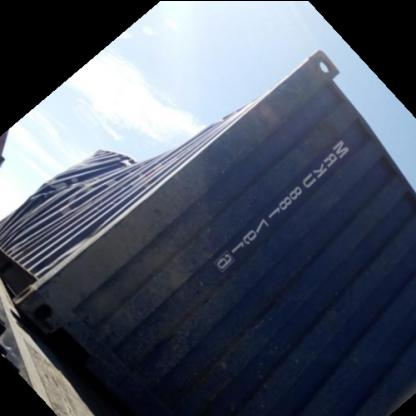Damage: (36, 144, 136, 198), (60, 218, 115, 260)
